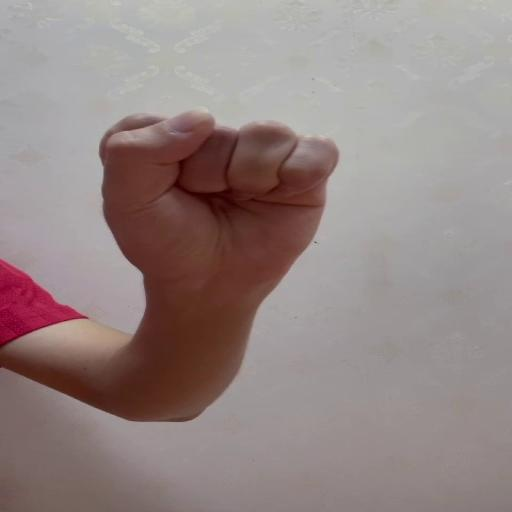fist: (98, 108, 340, 282)
